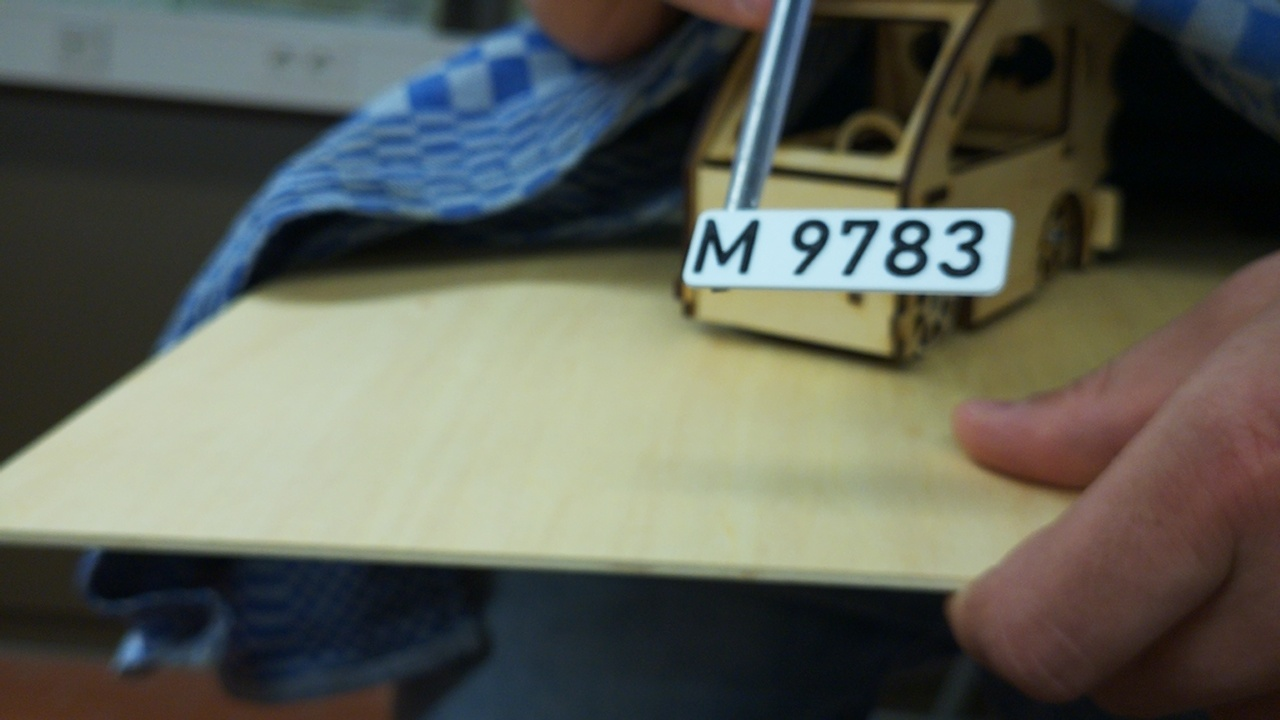license_plate: (680, 203, 1012, 297)
